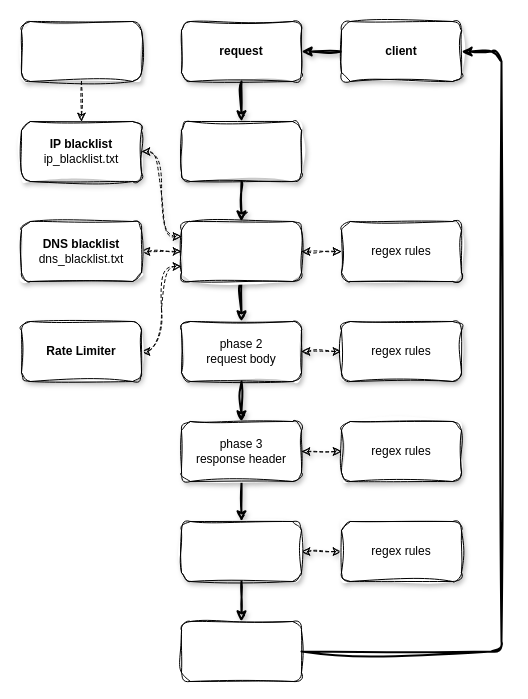
Some shapes in this 528 by 699 pixel diagram are drawn without their labels. The centre of each missing label's shape, as x and y in pixels:
"caddy-waf" belongs at point (242, 152).
"phase 1 request header" belongs at point (242, 252).
"phase 4 response body" belongs at point (242, 552).
"response" belongs at point (241, 651).
"TOR blacklist tor_blacklist.txt" belongs at point (82, 52).
